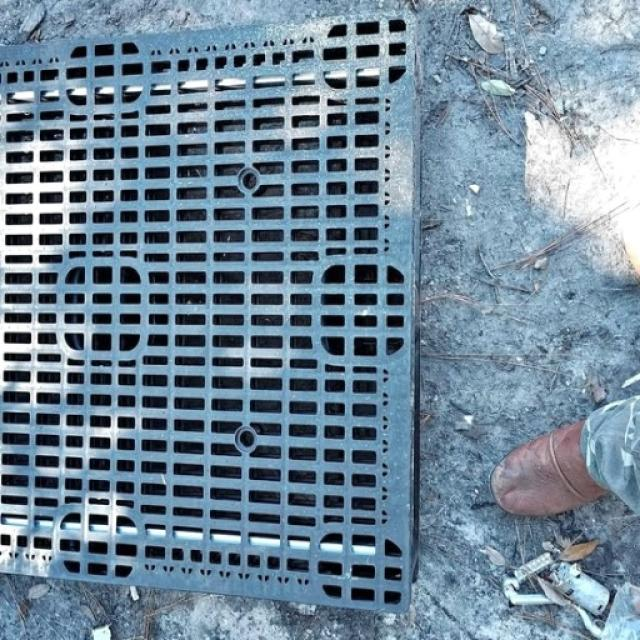non-igps: (0, 4, 433, 625)
